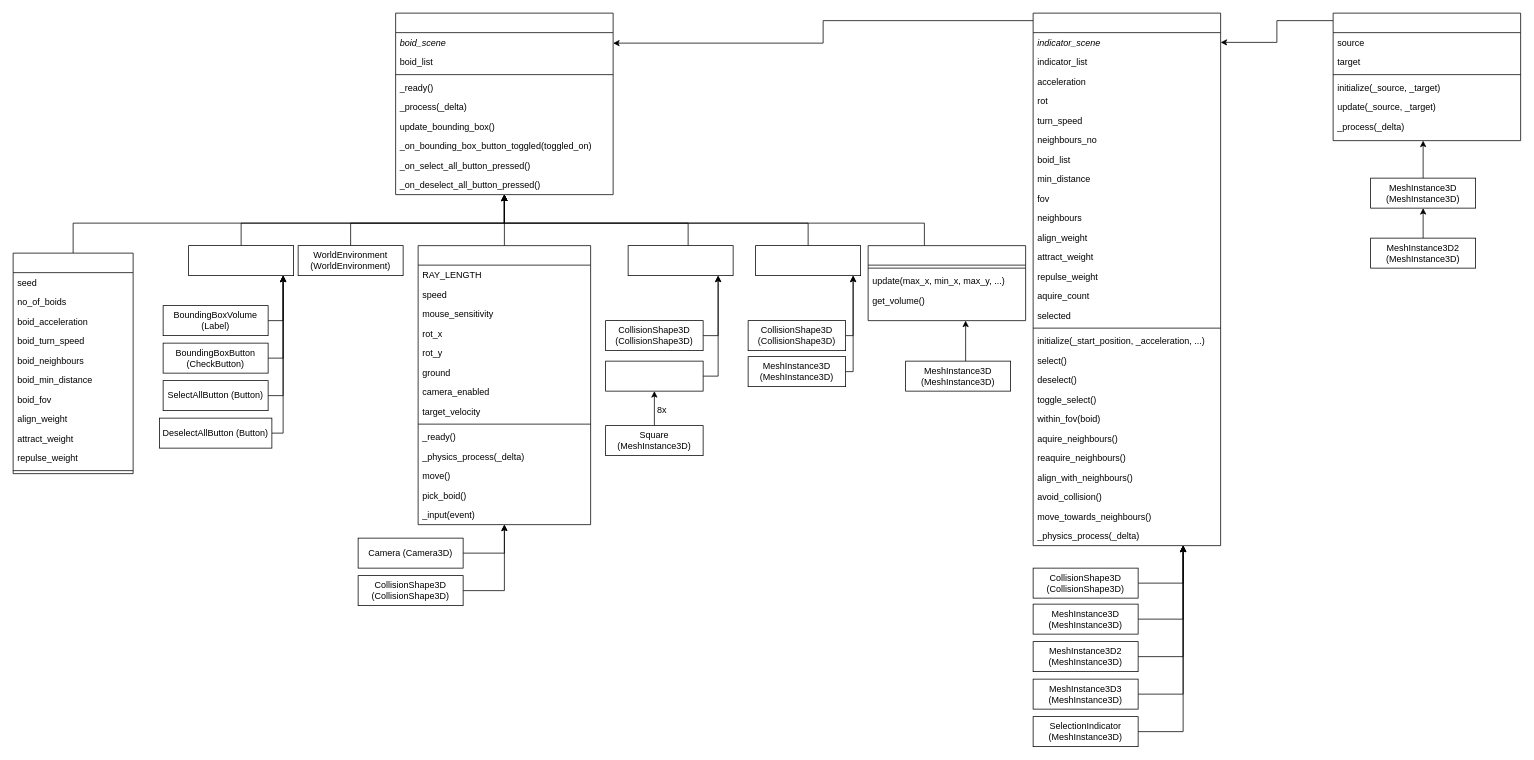
This 1534x760 diagram has some shape labels left out. Each missing label, with the box of its shape:
Boid (CharacterBody3D): (1032, 12, 1221, 546)
BoundingBox (Node3D): (867, 245, 1026, 321)
Ground (StaticBody3D): (755, 245, 861, 276)
Indicator (Node3D): (1332, 12, 1521, 141)
Main (Node): (395, 12, 613, 195)
MovableCamera (CharacterBody3D): (417, 245, 591, 525)
Parameters (Node): (12, 252, 133, 474)
SpawnArea (Area3D): (627, 245, 733, 276)
Squares (Node3D): (605, 360, 703, 391)
UserInterface (Control): (188, 245, 294, 276)
